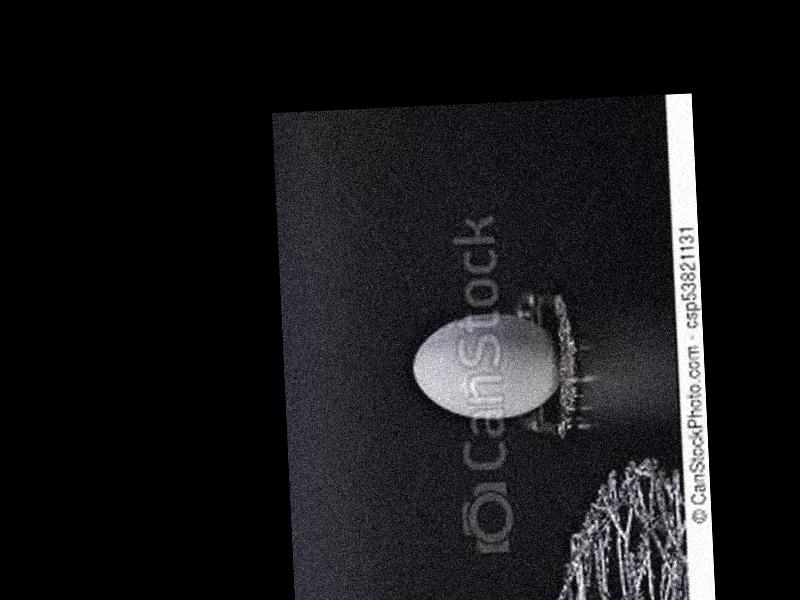Eggs: (411, 310, 562, 423)
